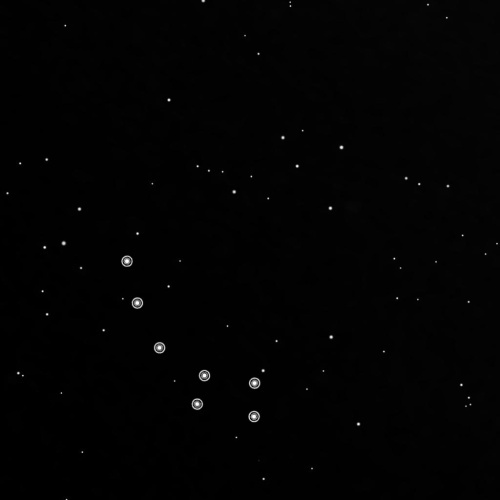ursa_minor: (115, 249, 274, 430)
